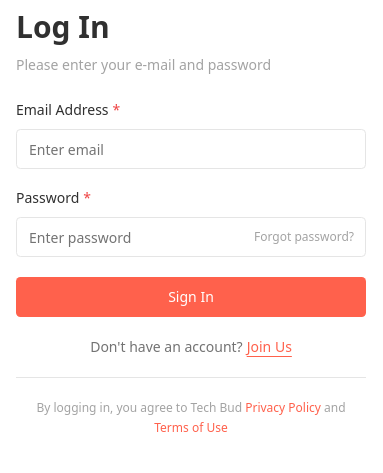
Scenario: LoginForm › form validation › shows validation error for Short Password
Type "short-pass@example.com" into the field labelled "Email Address" at [191, 149], box [16, 129, 366, 169]
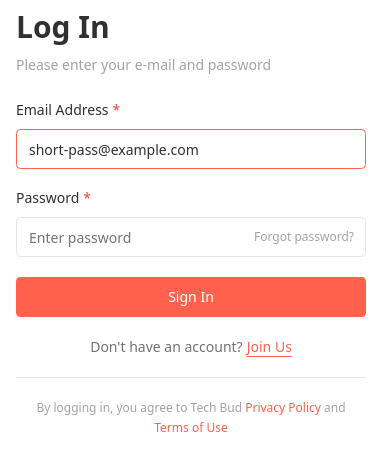
Type "short" into the password field labelled "Enter password" at [191, 237], box [16, 217, 366, 257]
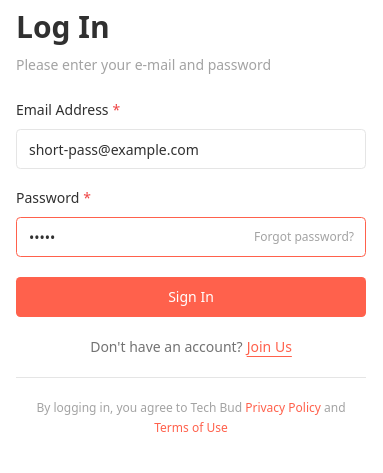
Click the button "Sign In" at [191, 297], box [16, 277, 366, 317]
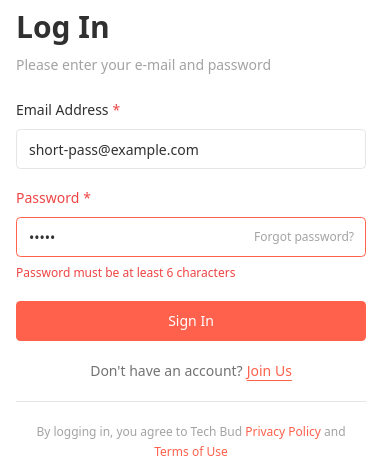
Check: the text "Password must be at least 6 characters" is shown, box [16, 264, 235, 281]
